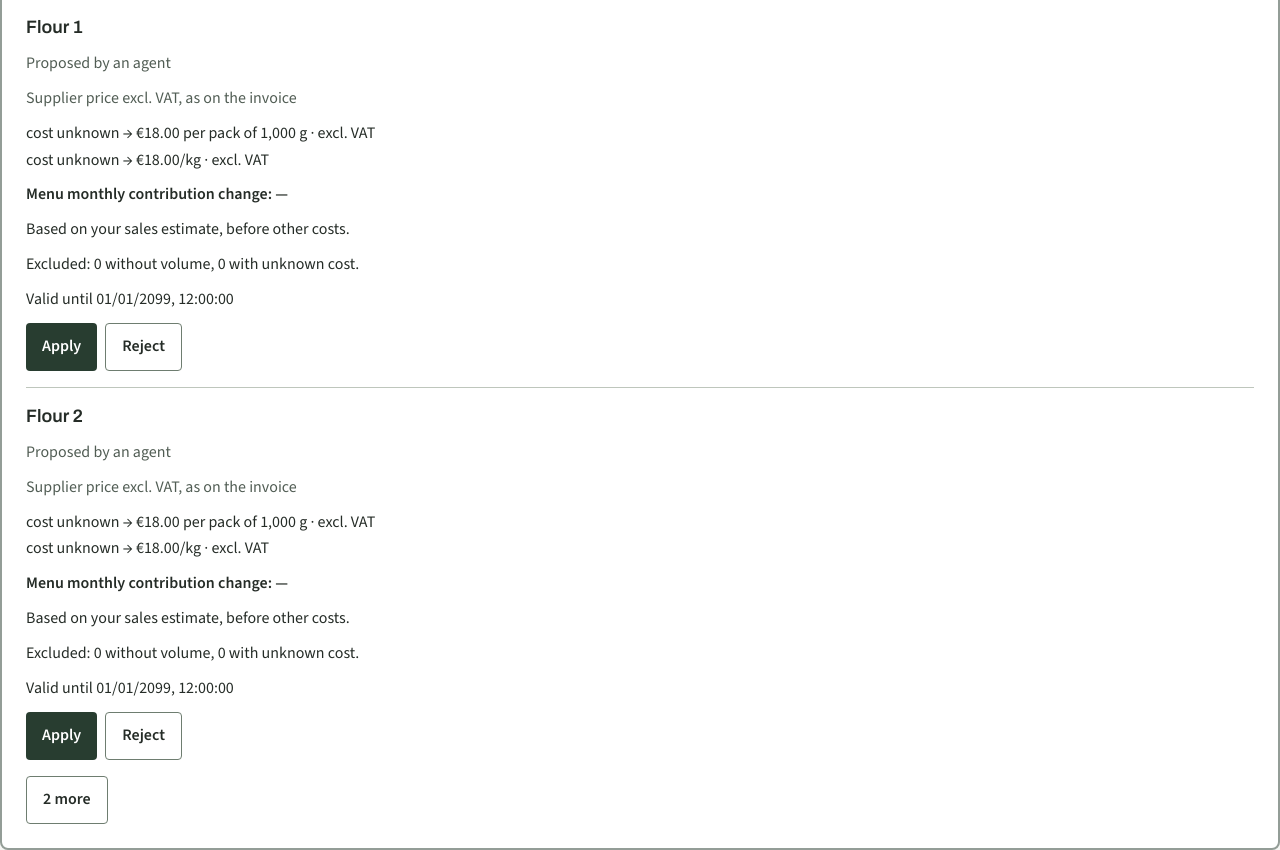
Test case: plans bound cards, paginate, show inactive reasons and confirm reject all
(page scrolled)
Step 1. Click the button "2 more" → (67, 800), box [26,776,108,824]
(page scrolled)
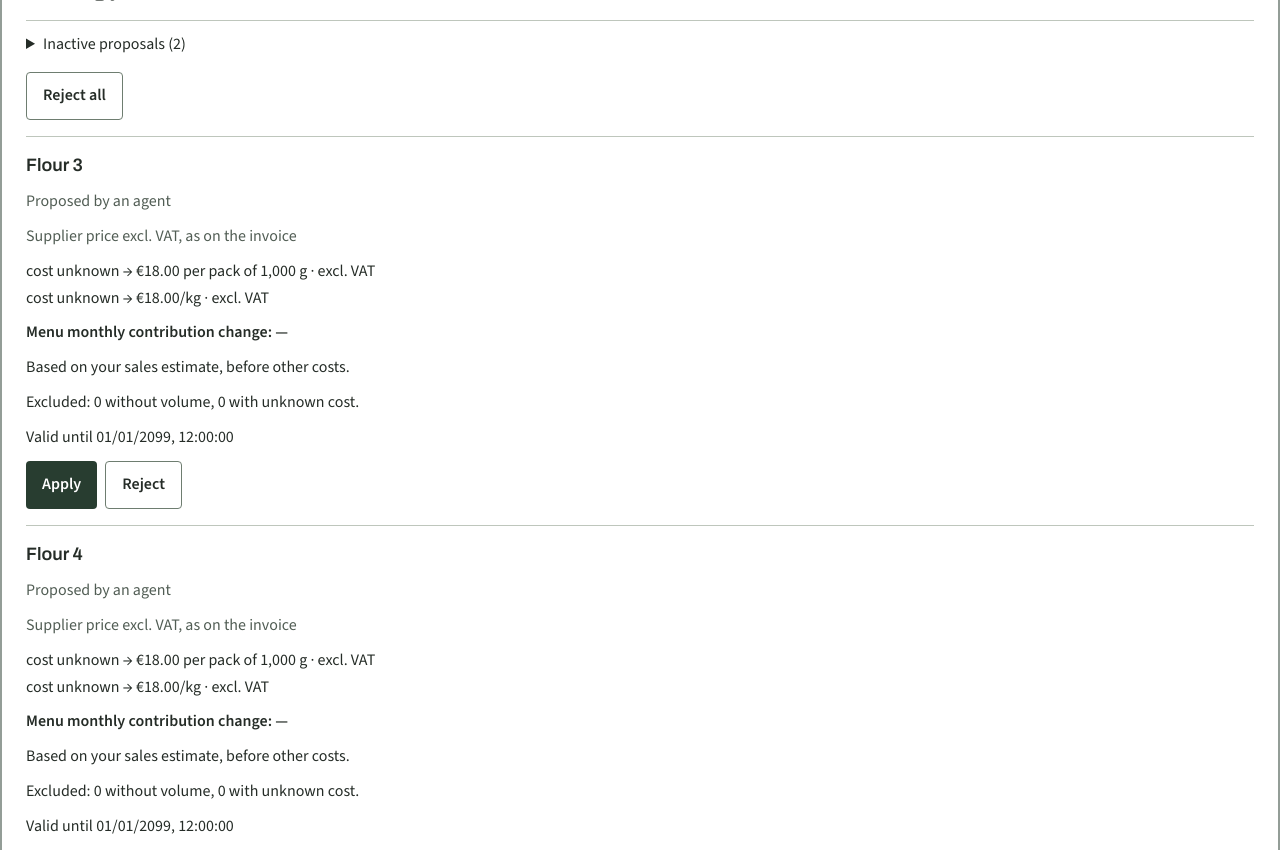
Step 2. Click the heading "Inactive proposals (2)" → (114, 44), box [43,33,186,54]
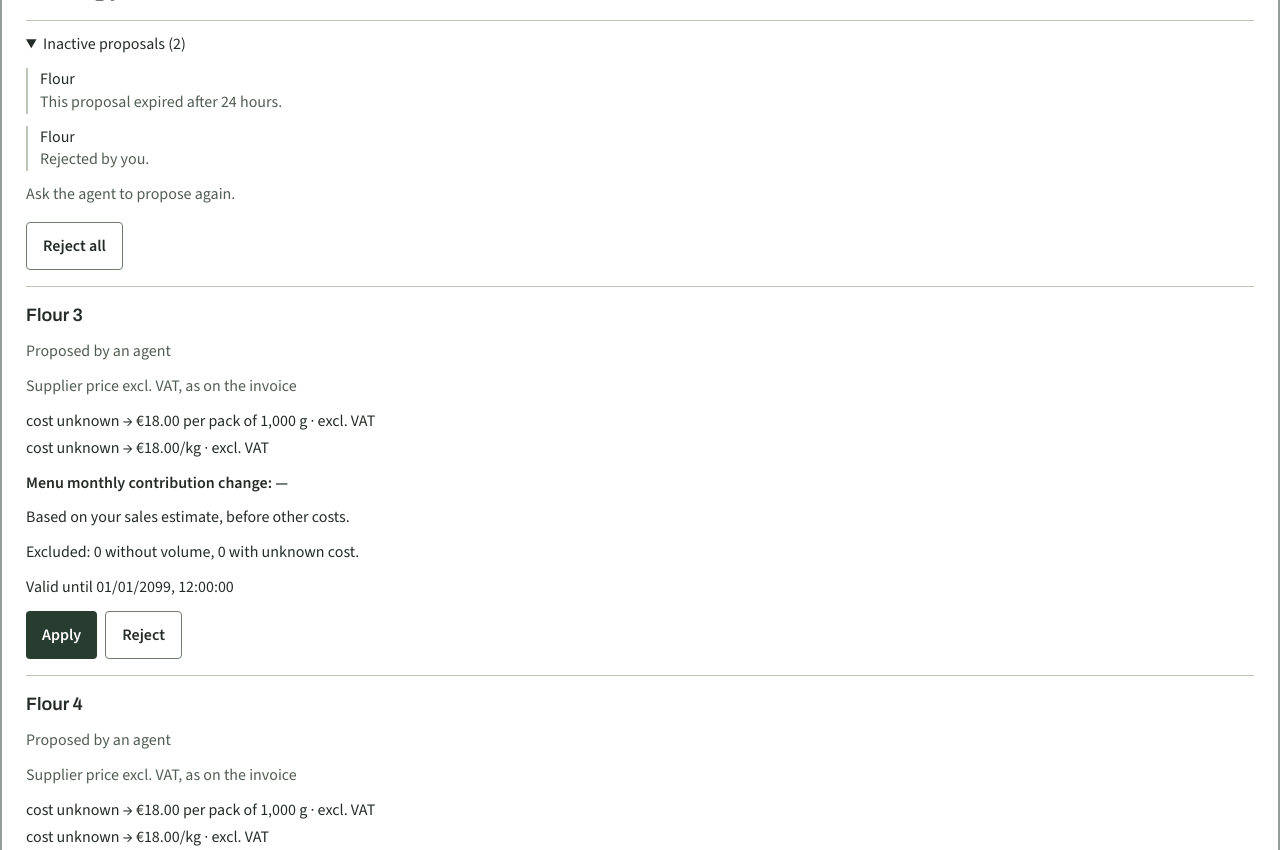
Check: the text "This proposal expired after 24 hours." is shown, box [40,91,282,112]
Check: the text "Rejected by you." is shown, box [40,148,149,169]
Step 3. Click the button "Reject all" → (74, 246), box [26,222,123,270]
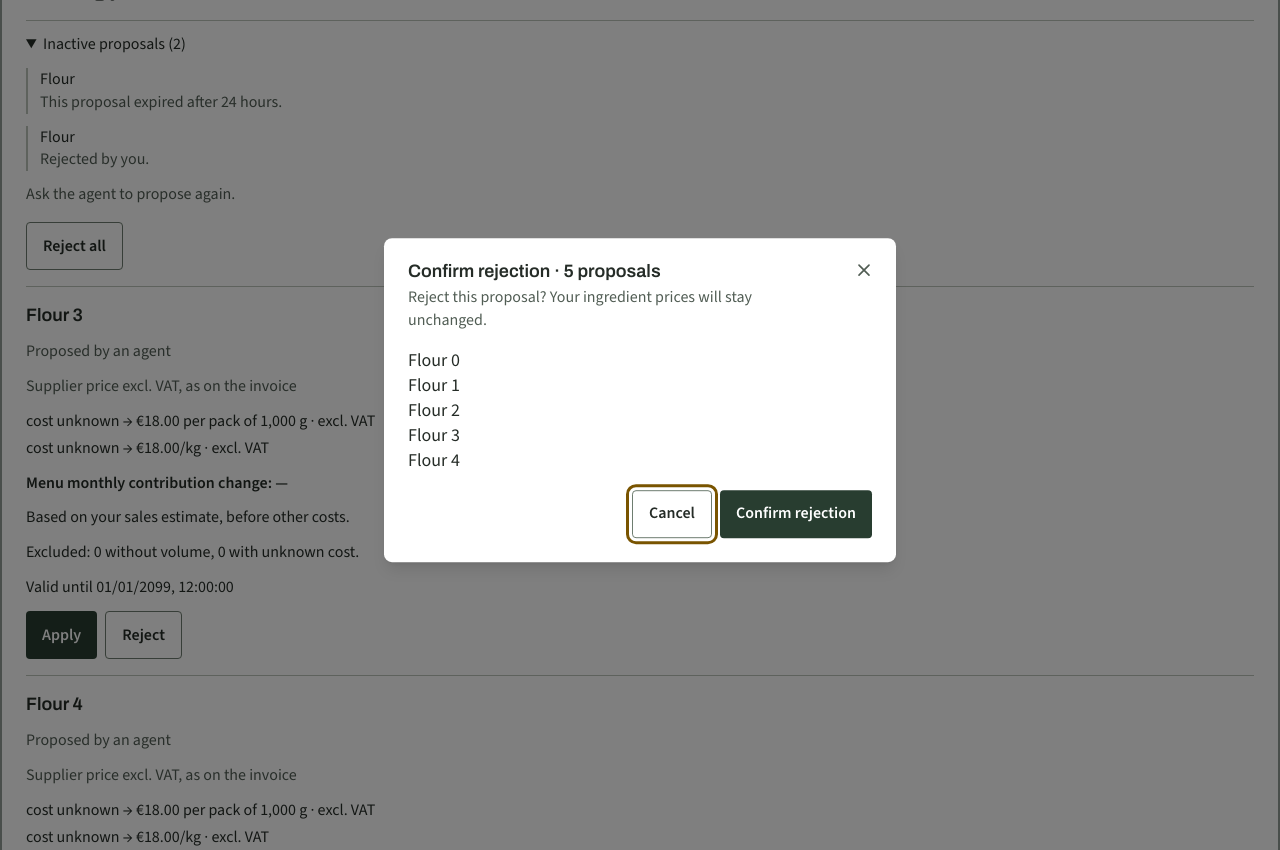
Check: the dialog shows "5 proposals", box [564,261,661,281]
Step 4. Click the button "Confirm rejection" → (796, 514), box [720,490,872,538]
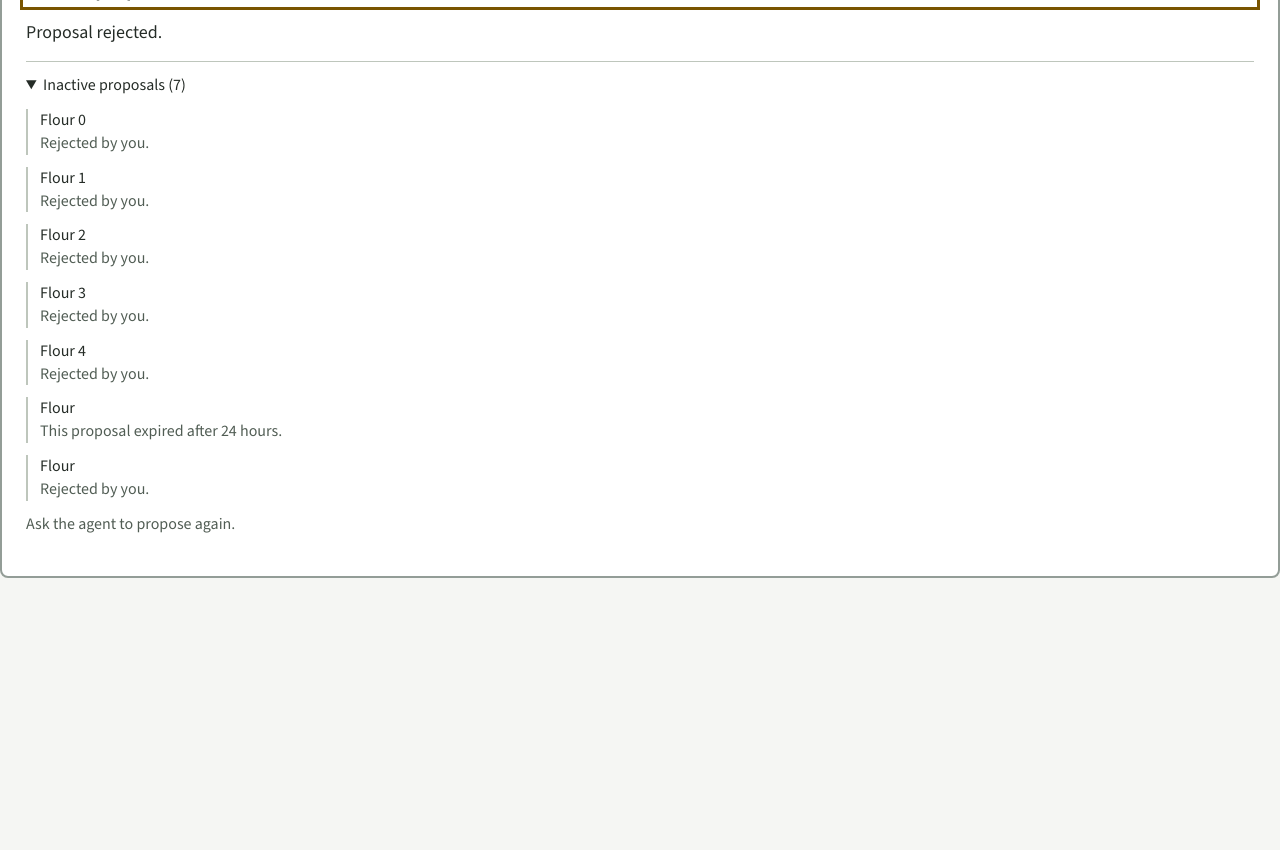
Check: the number of messages is 1, box [26,20,162,44]
